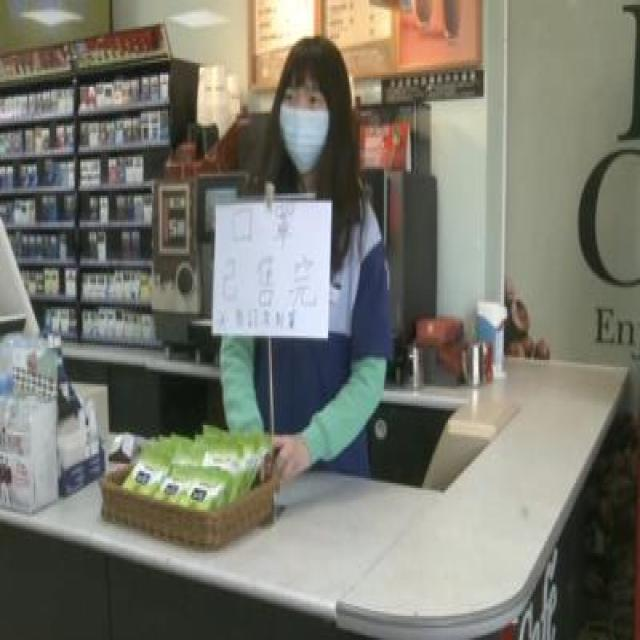with_mask: (276, 78, 329, 170)
